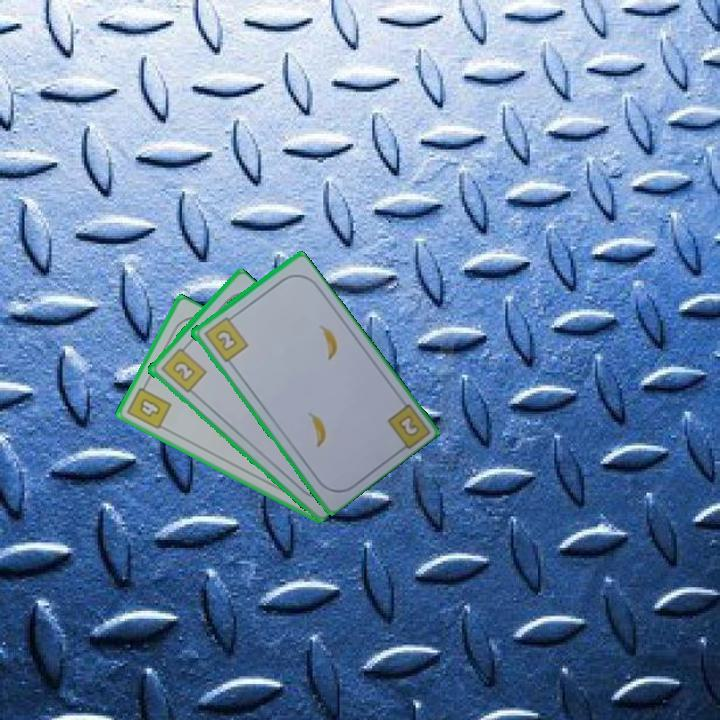2b: (157, 341, 209, 396), (200, 311, 251, 365), (394, 411, 422, 440)
4b: (123, 378, 174, 432)
